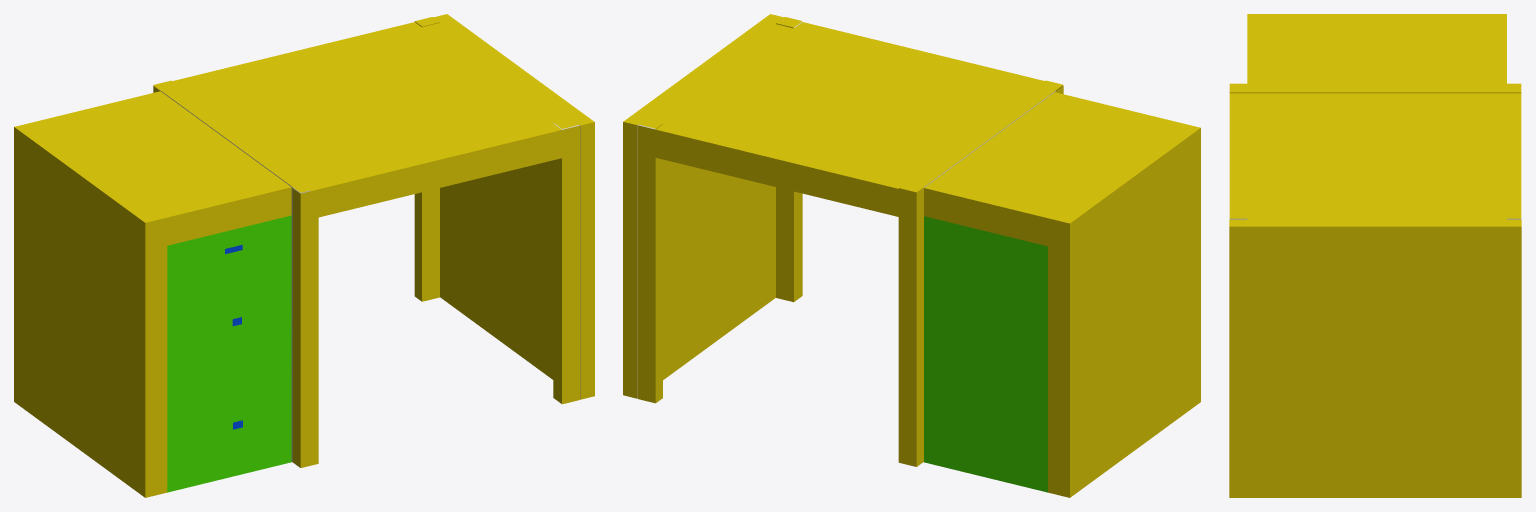
File: teacherdeskcolor.glb
3 views of the same model, side by side, from view 1: azimuth 30°, elevation 25°; view 2: azimuth 150°, elevation 25°; view 3: azimuth 270°, elevation 25° (orthographic).
Parts seen in each view (by area): view 1: Cube; view 2: Cube; view 3: Cube.
Part boxes in pixels (<box>): Cube: <box>14,14,594,497</box>; Cube: <box>623,14,1200,497</box>; Cube: <box>1229,14,1521,497</box>.
Size of the model in its own units: 2.67 by 1.6 by 1.55.
